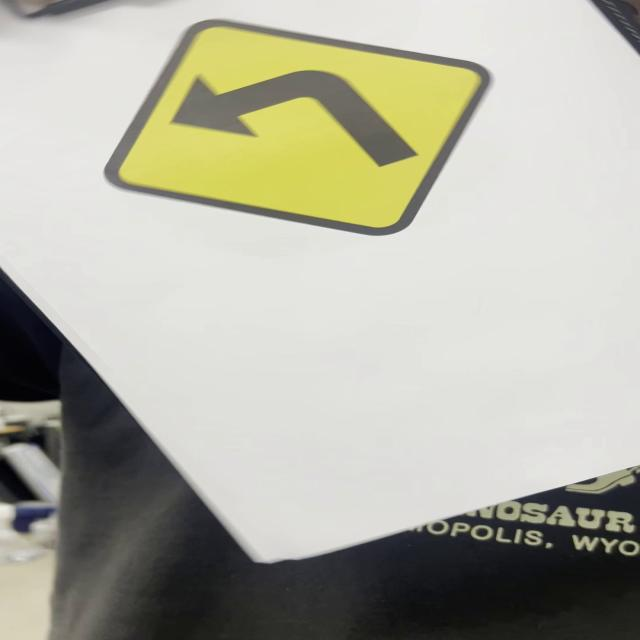left: (94, 18, 491, 238)
